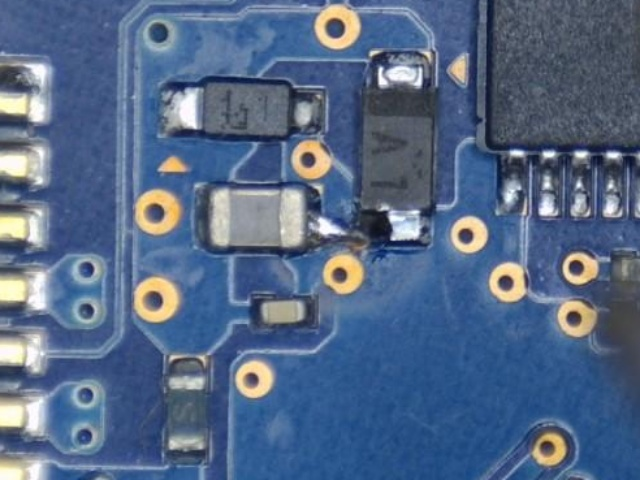pcb_defect: (278, 183, 420, 253)
